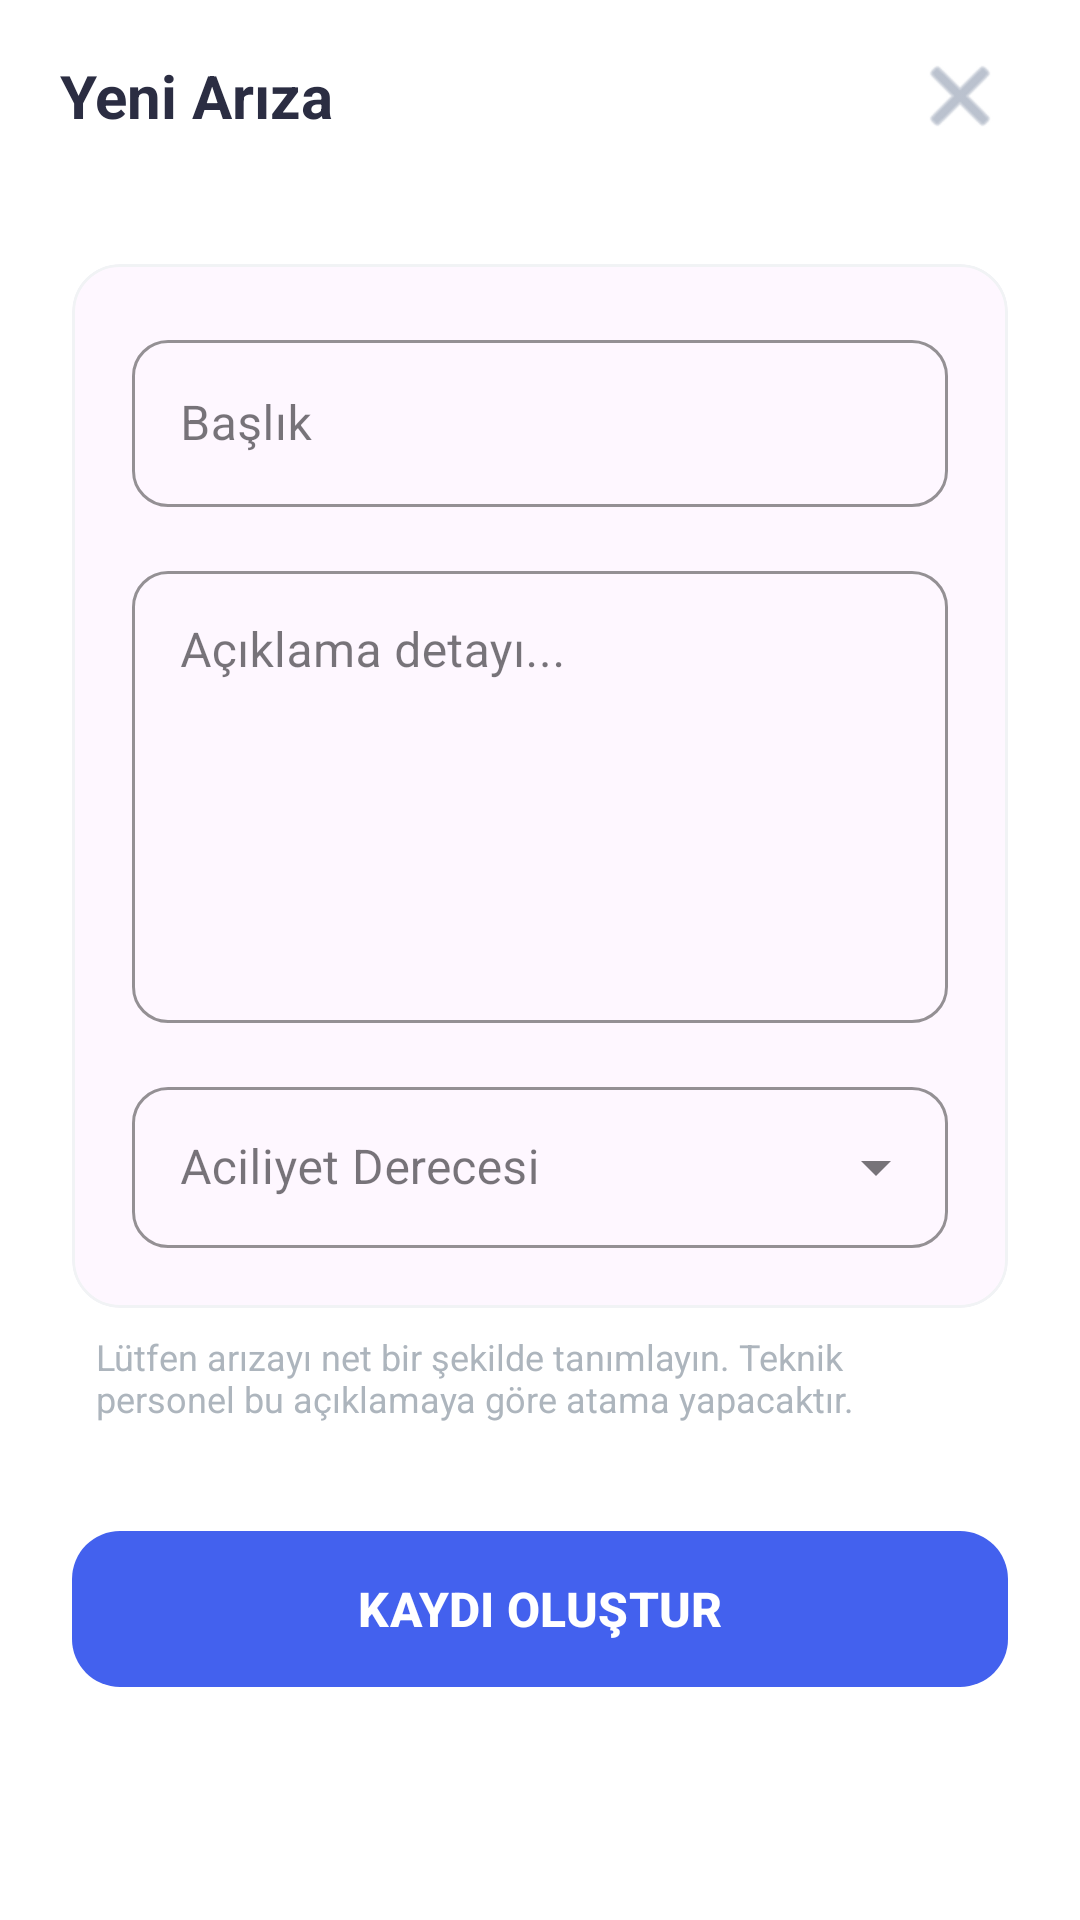

Icon bounding boxes for this 1080 × 1920 phone screenshot, format detection(x1, y1, x2, y2):
close clear cancel: detection(931, 67, 989, 125)
